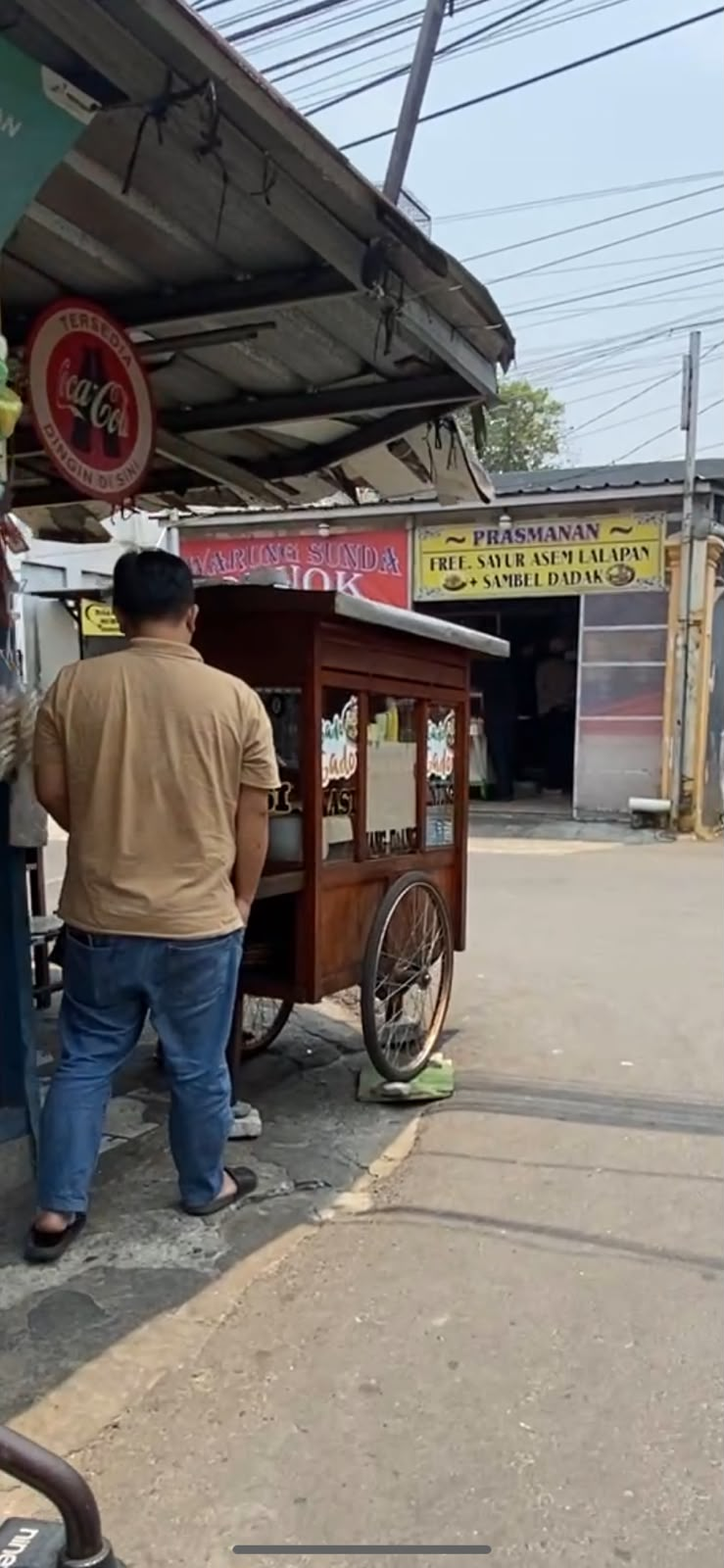gerobak: (193, 582, 506, 1085)
